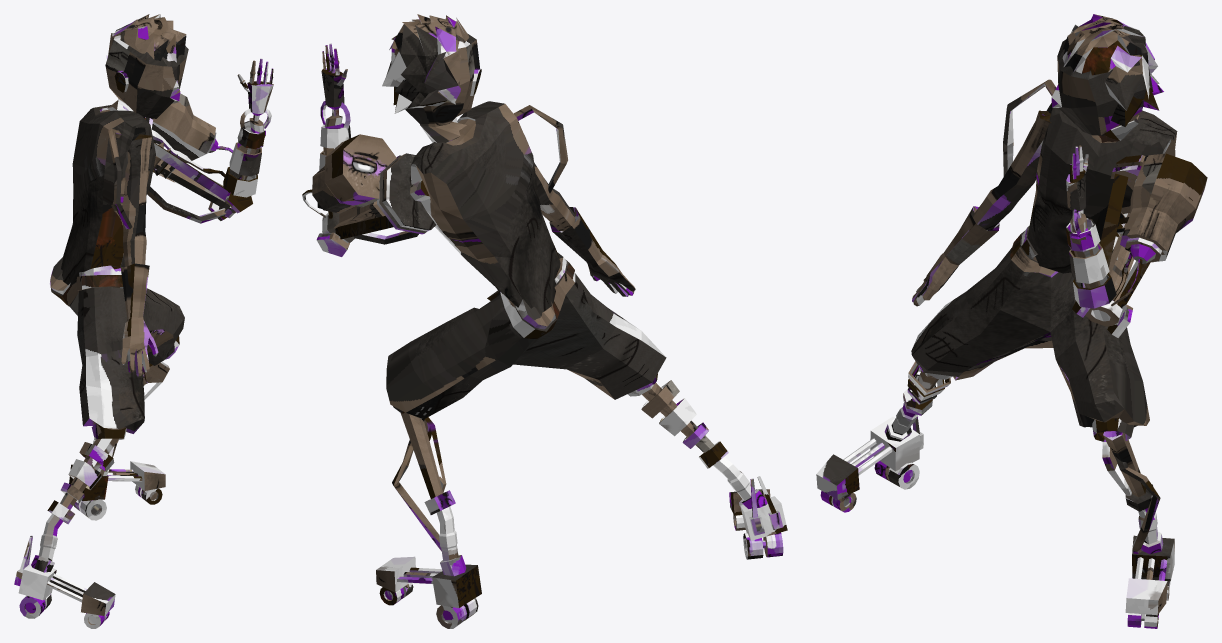
The model's file is CyborgFINALAnimation_000005.obj.
The picture shows the model from 3 angles, left to right: view 1: azimuth 30°, elevation 25°; view 2: azimuth 150°, elevation 25°; view 3: azimuth 270°, elevation 25°; orthographic projection. The views are drawn at different scales.
Visible parts, largest first — view 1: CyborgMesh_Cube.002; view 2: CyborgMesh_Cube.002; view 3: CyborgMesh_Cube.002.
Boxes of the visible parts, bbox=[...] form: CyborgMesh_Cube.002: bbox=[14, 14, 273, 628]; CyborgMesh_Cube.002: bbox=[302, 14, 787, 628]; CyborgMesh_Cube.002: bbox=[816, 14, 1207, 628].
Size of the model in its own units: 5.88 by 8.56 by 5.04.
